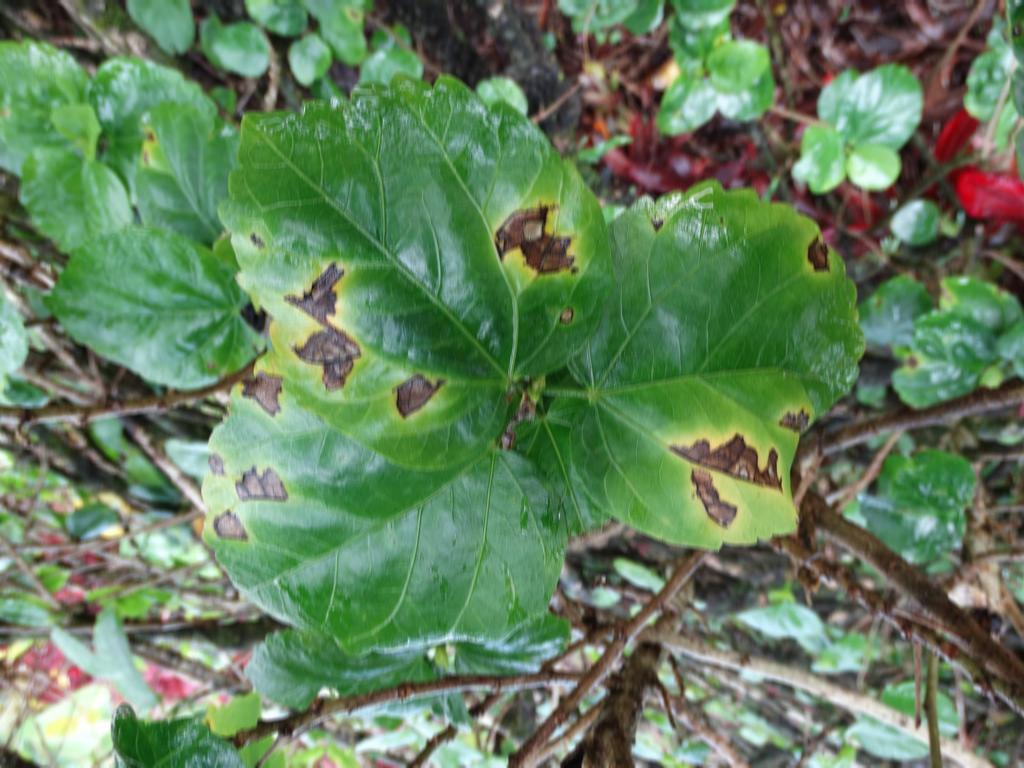Tomato Septoria leaf spot: (216, 76, 613, 453), (571, 192, 876, 553)
